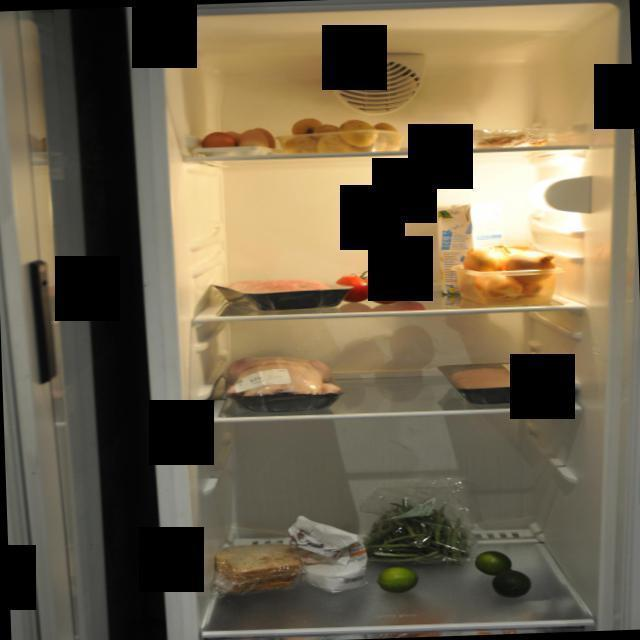bread: (212, 539, 306, 598)
chicken: (219, 352, 343, 407)
chicken_breast: (453, 364, 560, 399)
egg: (199, 124, 274, 158)
flour: (287, 511, 373, 595)
green_beans: (362, 494, 482, 568)
ground_beef: (211, 275, 338, 311)
lime: (473, 548, 532, 598), (378, 564, 422, 594)
milk: (434, 200, 504, 298)
onion: (456, 242, 556, 306)
potato: (274, 114, 400, 156)
shrimp: (444, 126, 557, 152)
tomato: (331, 260, 430, 306)
